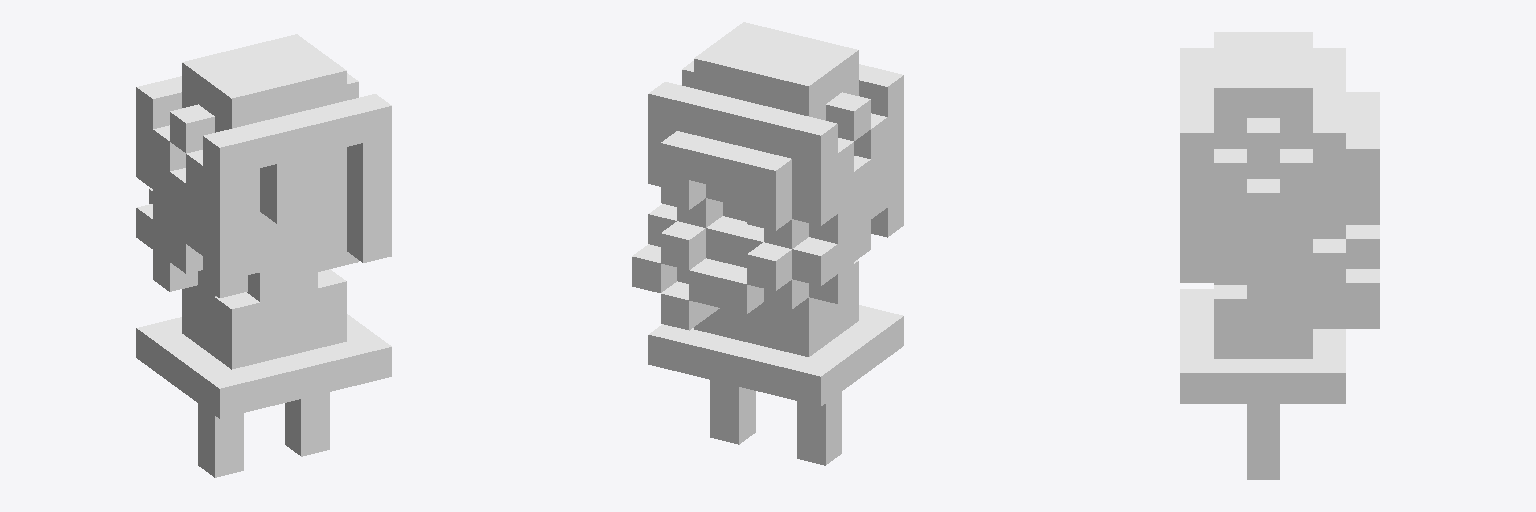
The model's file is Girl3.obj.
3 renders of one model, left to right at view 1: azimuth 30°, elevation 25°; view 2: azimuth 150°, elevation 25°; view 3: azimuth 270°, elevation 25°, orthographic.
Visible parts, largest first — view 1: object 1; view 2: object 1; view 3: object 1.
Part boxes in pixels (x1,y1,x2,y2): object 1: (136, 34, 391, 477); object 1: (632, 22, 903, 465); object 1: (1180, 32, 1379, 479).
Size of the model in its own units: 0.6 by 1.3 by 0.6.